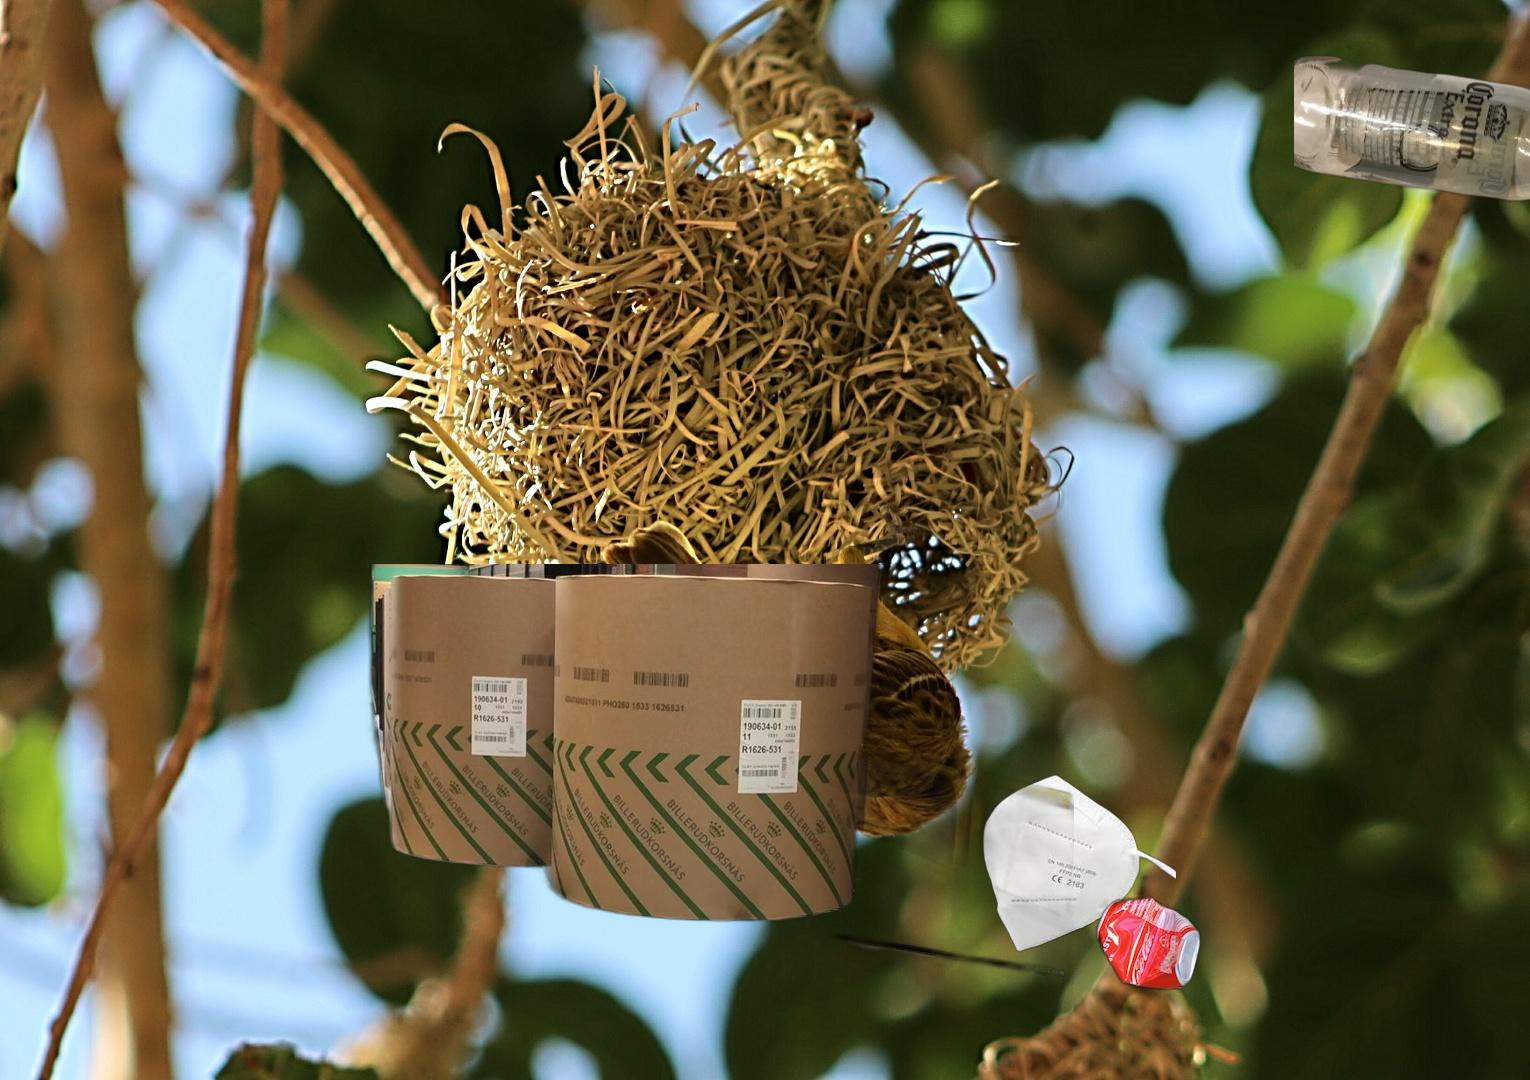glass: (1294, 51, 1530, 212)
metal-cans: (770, 785, 1282, 1051)
trash: (979, 771, 1176, 954)
trashbox-cardboard: (359, 565, 1074, 984)
